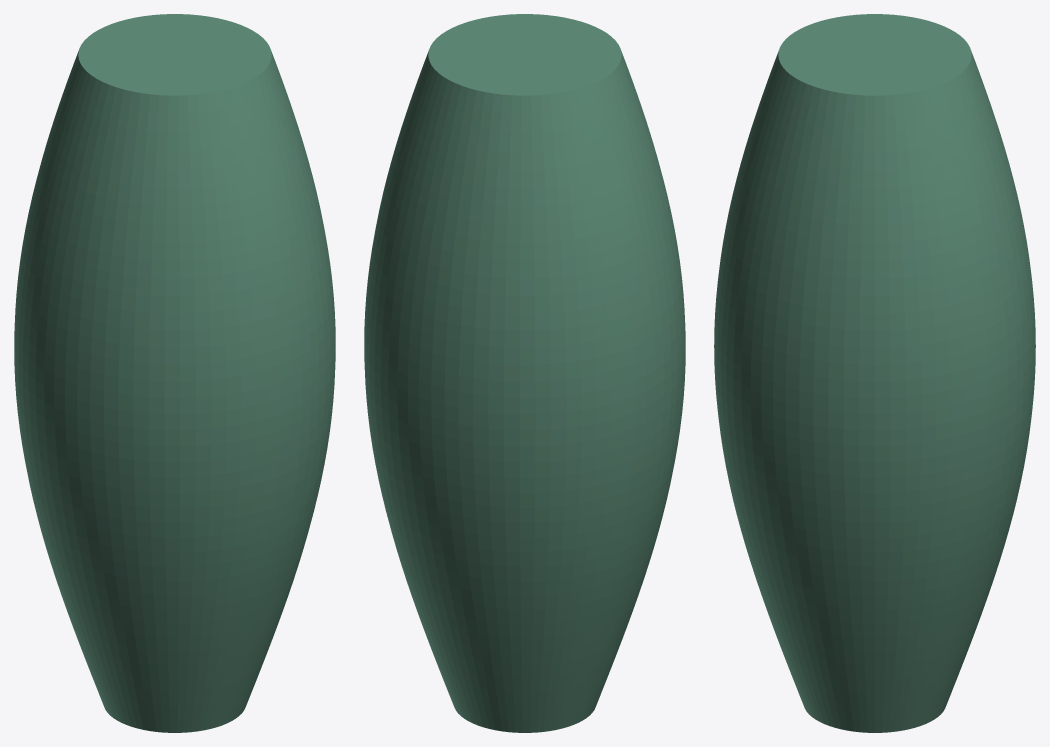
Rendered from curved_tower.glb.
3 views of the same model, side by side, from view 1: azimuth 30°, elevation 25°; view 2: azimuth 150°, elevation 25°; view 3: azimuth 270°, elevation 25° (orthographic).
Parts seen in each view (by area): view 1: shell; view 2: shell; view 3: shell.
Boxes of the visible parts, x1,y1,x2,y2 form: shell: (14, 14, 335, 732); shell: (364, 14, 685, 732); shell: (714, 14, 1035, 732).
Bounding box in the file's own units: 18 × 40 × 18.
